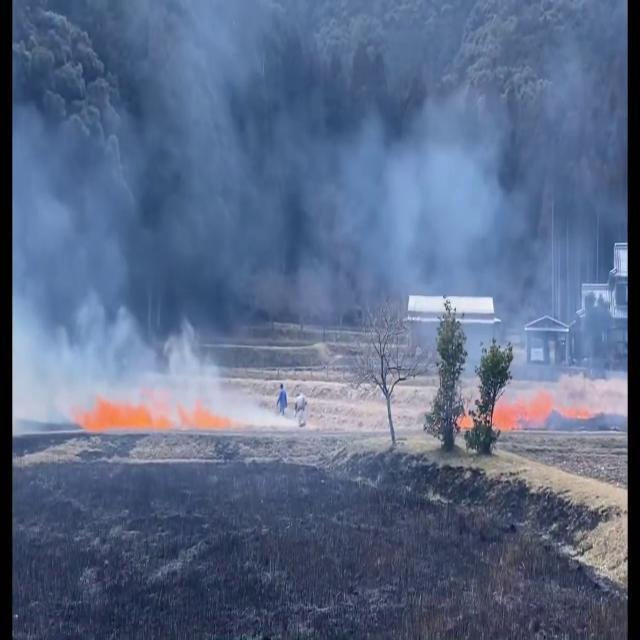Fire: (77, 396, 161, 436), (491, 394, 548, 428), (454, 399, 476, 436)
Smoke: (21, 1, 620, 421)
